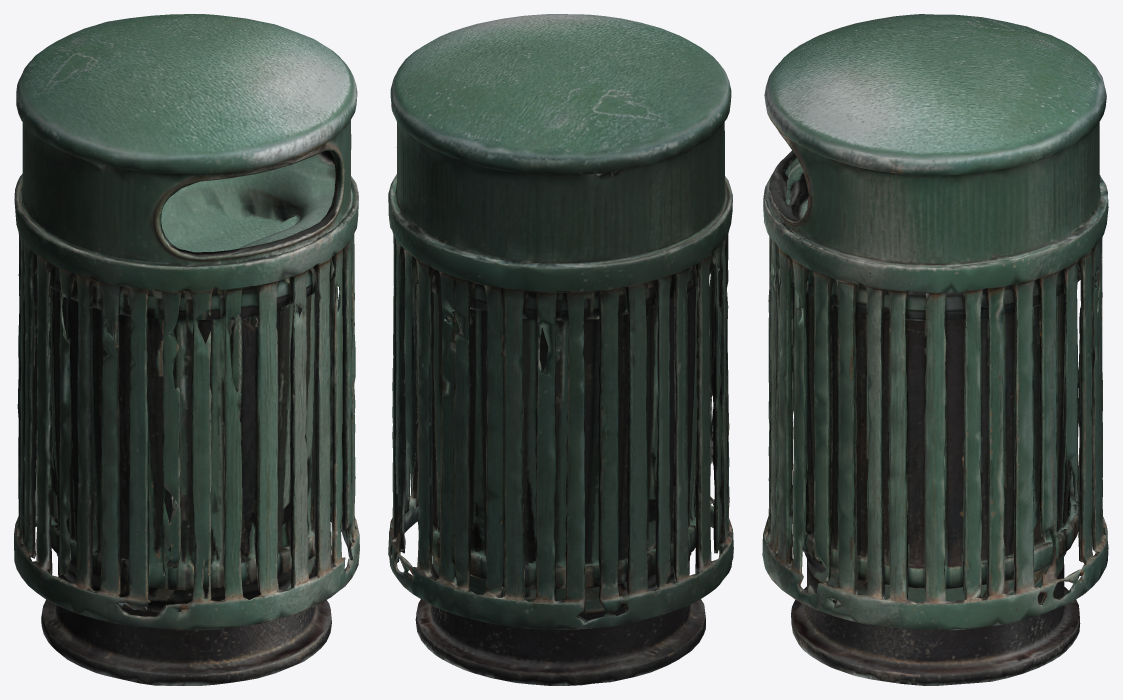
Rendered from ParkBin.glb.
3 views of the same model, side by side, from view 1: azimuth 30°, elevation 25°; view 2: azimuth 150°, elevation 25°; view 3: azimuth 270°, elevation 25° (orthographic).
Visible parts, largest first — view 1: texture_mapping; view 2: texture_mapping; view 3: texture_mapping.
Boxes of the visible parts, x1,y1,x2,y2 form: texture_mapping: (14,14,359,685); texture_mapping: (388,14,733,685); texture_mapping: (762,14,1108,685).
Size of the model in its own units: 0.5463 by 1 by 0.5467.
1 material, 1 textured.
